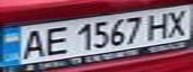1: (72, 20, 93, 52)
5: (90, 18, 112, 50)
6: (106, 16, 130, 47)
7: (124, 14, 148, 44)
A: (15, 27, 51, 61)
E: (39, 24, 72, 56)
H: (142, 10, 175, 40)
X: (160, 7, 193, 38)
